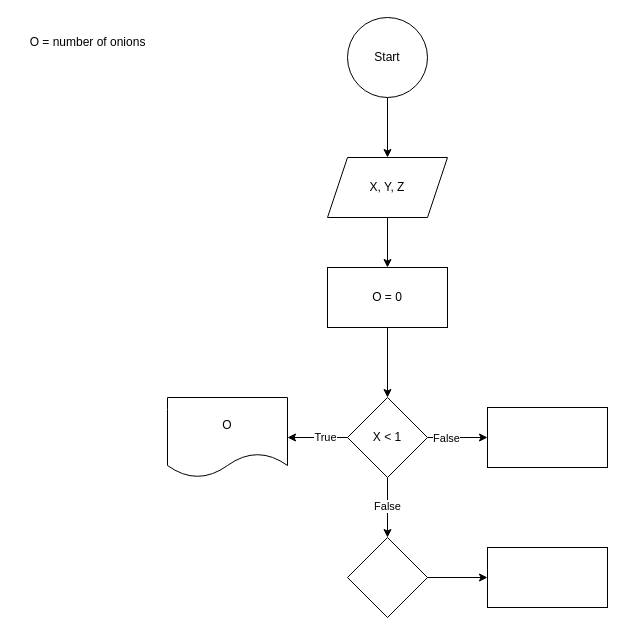
Some shapes in this 625 by 635 pixel diagram are drawn without their labels. The shapes that lost their labels are listed below. From the top down, each one's centre as x and y in pixels, then its label:
At [547,437]: "O = Y(X*3)".
At [387,577]: "X < Z".
